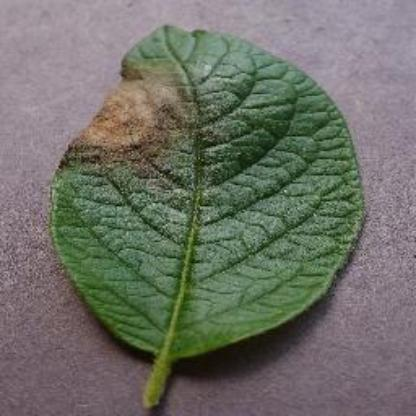Late-Blight: (42, 19, 374, 406)
